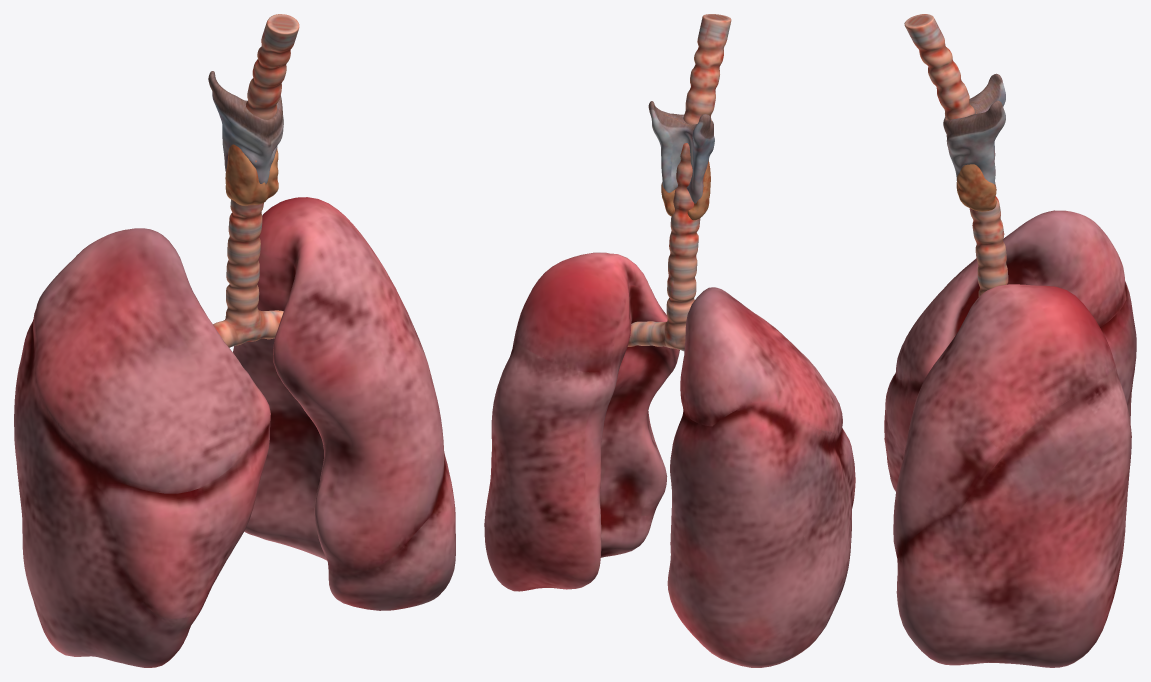
Rendered from lungs.glb.
3 renders of one model, left to right at view 1: azimuth 30°, elevation 25°; view 2: azimuth 150°, elevation 25°; view 3: azimuth 270°, elevation 25°, orthographic. The views are drawn at different scales.
Visible parts, largest first — view 1: thairoid01:low_part02_Group6344:Group24638_thairoid01:lungh_, thairoid01:low_part01_Group6344:Group18522_thairoid01:lungh_; view 2: thairoid01:low_part02_Group6344:Group24638_thairoid01:lungh_, thairoid01:low_part01_Group6344:Group18522_thairoid01:lungh_; view 3: thairoid01:low_part02_Group6344:Group24638_thairoid01:lungh_, thairoid01:low_part01_Group6344:Group18522_thairoid01:lungh_.
Part boxes in pixels (x1=…): thairoid01:low_part02_Group6344:Group24638_thairoid01:lungh_: x1=14, y1=197, x2=455, y2=667; thairoid01:low_part01_Group6344:Group18522_thairoid01:lungh_: x1=208, y1=14, x2=299, y2=347; thairoid01:low_part02_Group6344:Group24638_thairoid01:lungh_: x1=484, y1=252, x2=855, y2=667; thairoid01:low_part01_Group6344:Group18522_thairoid01:lungh_: x1=627, y1=14, x2=731, y2=351; thairoid01:low_part02_Group6344:Group24638_thairoid01:lungh_: x1=884, y1=210, x2=1136, y2=667; thairoid01:low_part01_Group6344:Group18522_thairoid01:lungh_: x1=904, y1=14, x2=1008, y2=296.
Bounding box in the file's own units: 0.2233 × 0.3687 × 0.1423.
Materials: 2 (2 with a texture image).
